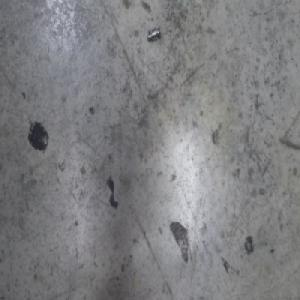Bolt: (147, 24, 162, 42)
